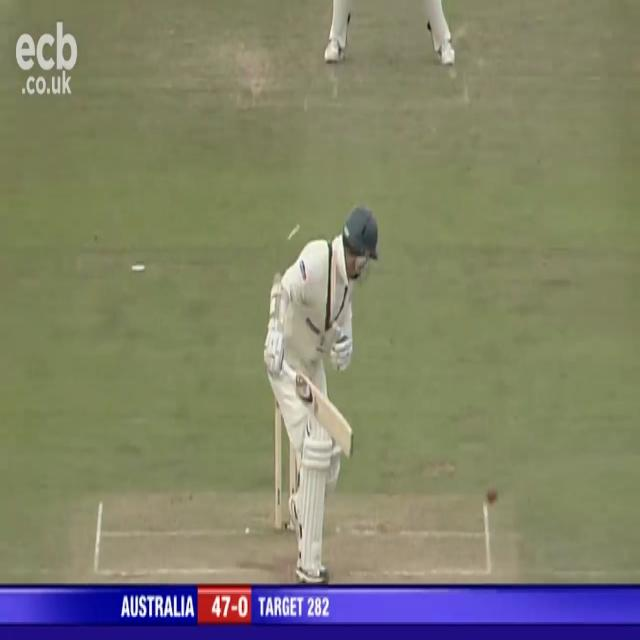ball: (488, 486, 498, 505)
